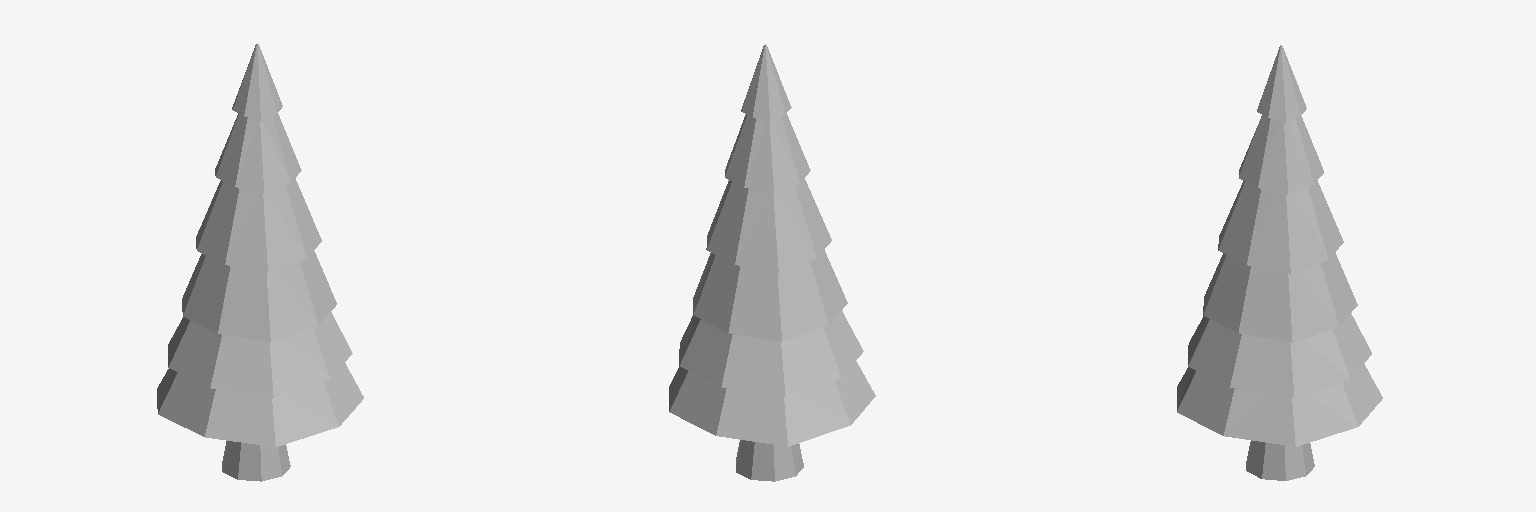
The model's file is arvore2.obj.
3 views of the same model, side by side, from view 1: azimuth 30°, elevation 25°; view 2: azimuth 150°, elevation 25°; view 3: azimuth 270°, elevation 25° (orthographic).
Parts seen in each view (by area): view 1: Cylinder; view 2: Cylinder; view 3: Cylinder.
Part boxes in pixels (left/top/right/bottom): Cylinder: left=157, top=43, right=363, bottom=481; Cylinder: left=669, top=44, right=875, bottom=481; Cylinder: left=1177, top=45, right=1382, bottom=480.
Size of the model in its own units: 2.31 by 5.13 by 2.28.